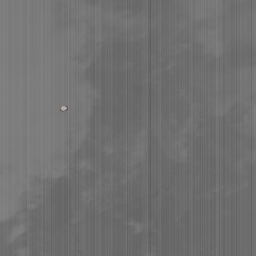Target: (59, 104, 69, 112)
